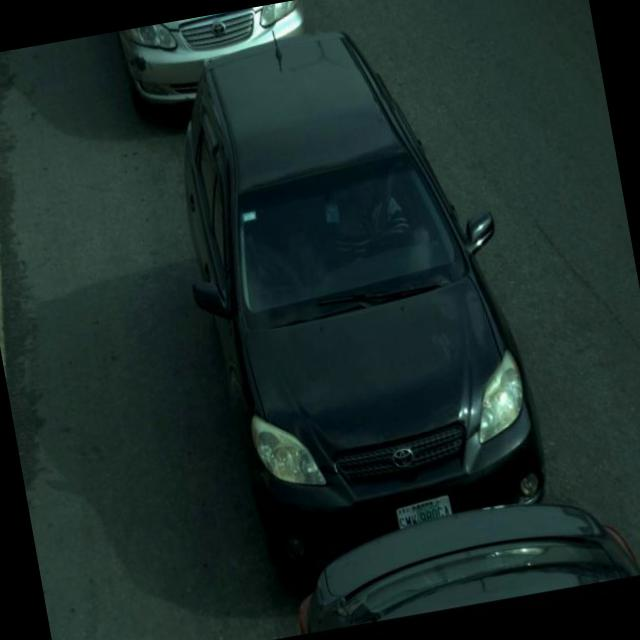person_with_seatbelt: (304, 159, 435, 290)
